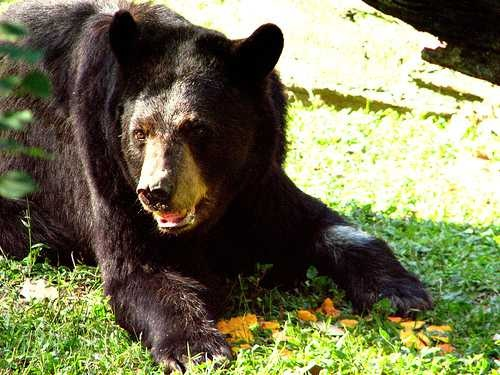bear: (107, 107, 235, 235), (72, 1, 200, 128), (203, 1, 331, 127)
